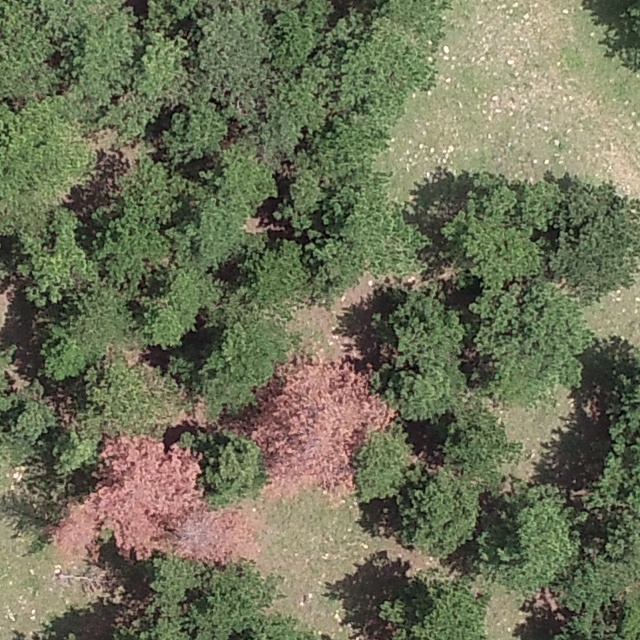unhealthy: (226, 353, 393, 497), (47, 432, 203, 559), (177, 505, 255, 563)
